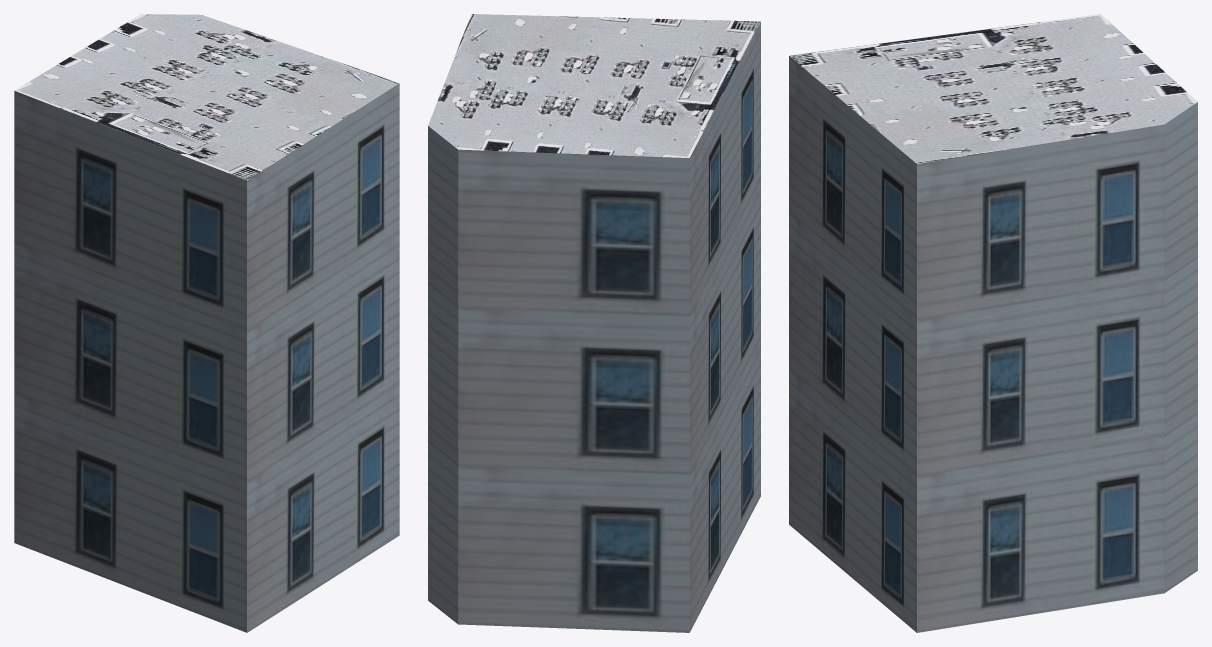
The model's file is ResTex__2828.fbx.
The picture shows the model from 3 angles, left to right: view 1: azimuth 30°, elevation 25°; view 2: azimuth 150°, elevation 25°; view 3: azimuth 270°, elevation 25°; orthographic projection. The views are drawn at different scales.
Visible parts, largest first — view 1: CityEngineMaterial_18_m, CityEngineMaterial_m; view 2: CityEngineMaterial_18_m, CityEngineMaterial_m; view 3: CityEngineMaterial_18_m, CityEngineMaterial_m.
Boxes of the visible parts, x1,y1,x2,y2 form: CityEngineMaterial_18_m: (14, 83, 399, 632); CityEngineMaterial_m: (14, 14, 399, 180); CityEngineMaterial_18_m: (428, 22, 760, 632); CityEngineMaterial_m: (428, 14, 760, 157); CityEngineMaterial_18_m: (789, 56, 1197, 632); CityEngineMaterial_m: (789, 14, 1197, 163).
Bounding box in the file's own units: 6.18 × 9 × 7.11.
Materials: 2 (2 with a texture image).
